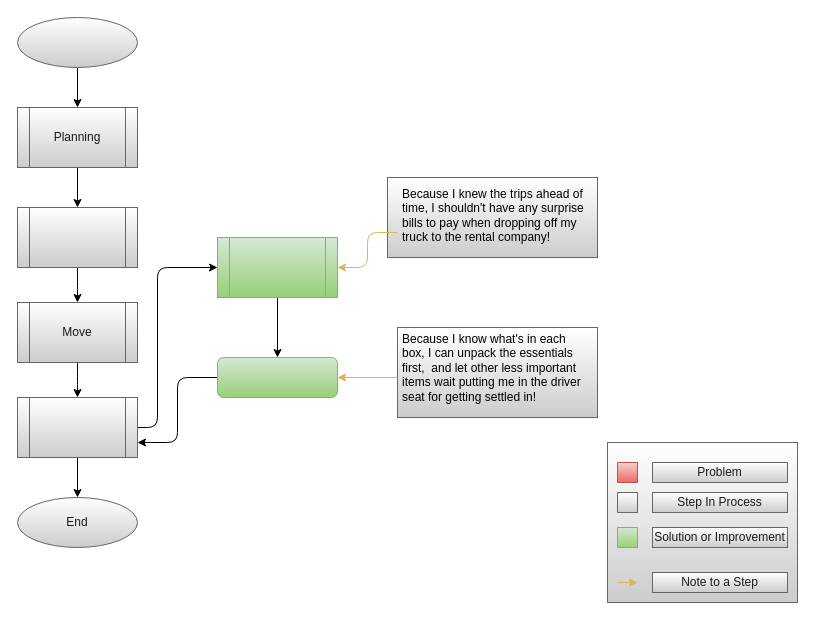
Some shapes in this 815 by 620 pixel diagram are drawn without their labels. Each missing label, with the box of its shape:
Post Move: (16, 396, 138, 458)
Prepare: (16, 206, 138, 268)
Return the truck to rental place: (216, 236, 338, 298)
Start: (16, 16, 138, 68)
Unpack: (216, 356, 338, 398)
